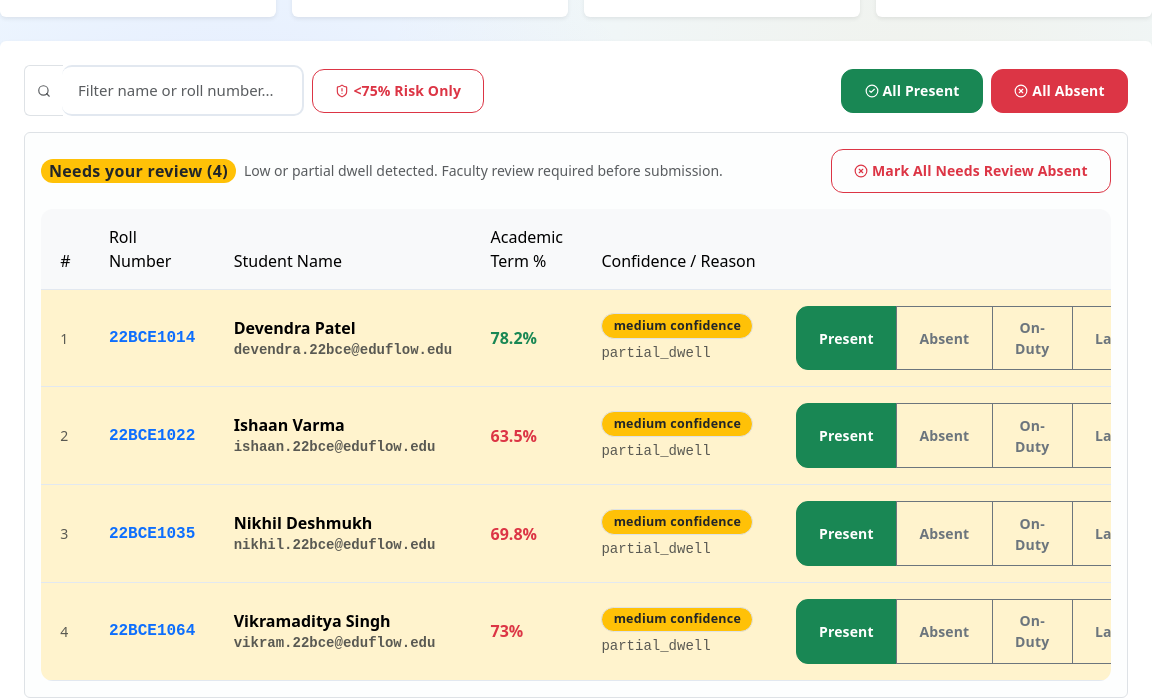
Test case: Faculty AttendanceEntryPage Component › allows toggling status between Present, Absent, On-Duty, and Late
The image size is (1164, 698).
(page scrolled)
Click the button "Absent" in the row of "22BCE1014" at (944, 338), box top-left (896, 306), bottom-right (993, 370)
(page scrolled)
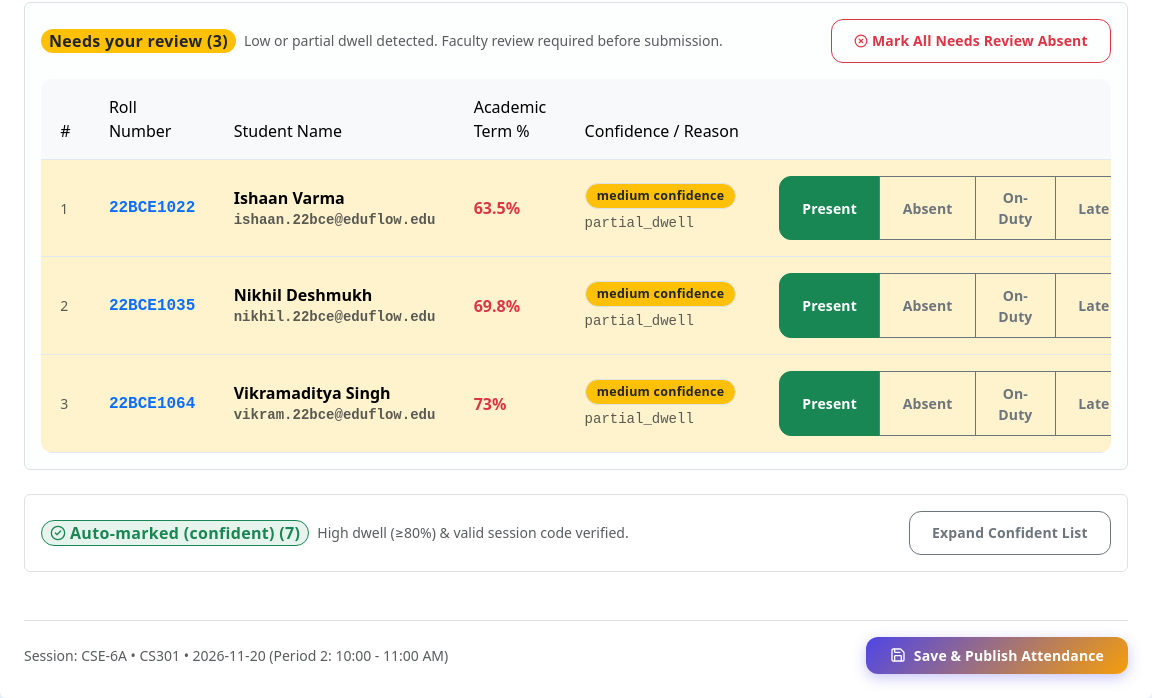
Click the button "Save & Publish Attendance" at (997, 655), box top-left (866, 637), bottom-right (1128, 674)
(page scrolled)
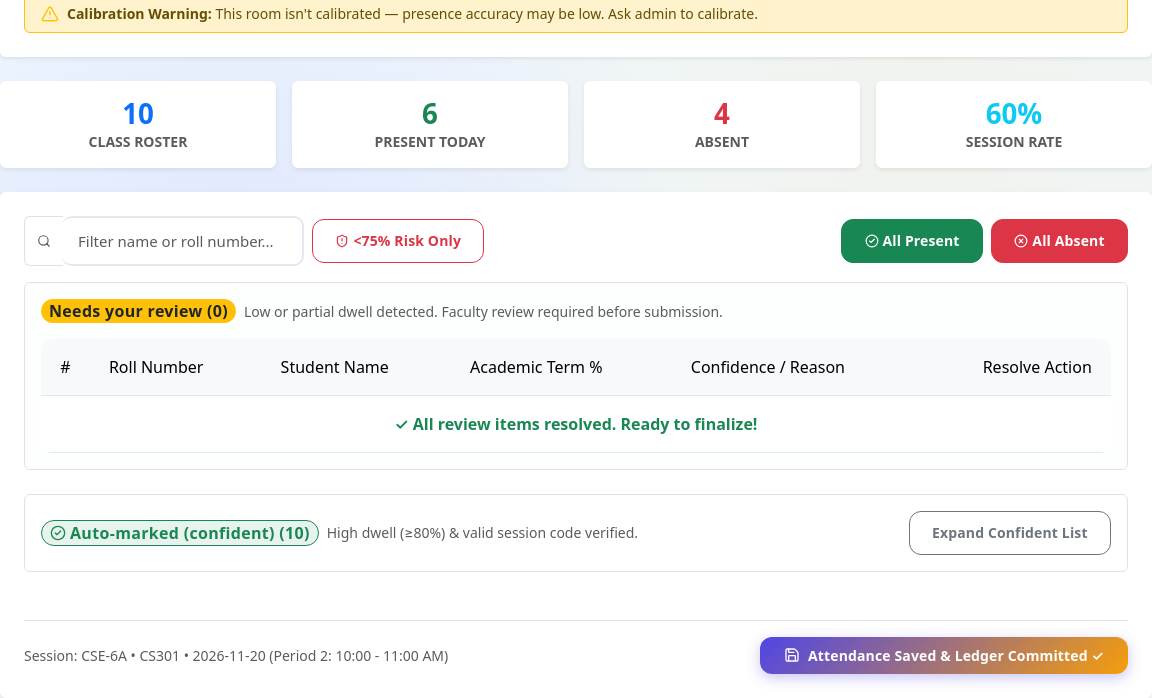
expect the button "Attendance Saved & Ledger Committed ✓" is shown: met, box top-left (760, 637), bottom-right (1128, 674)
